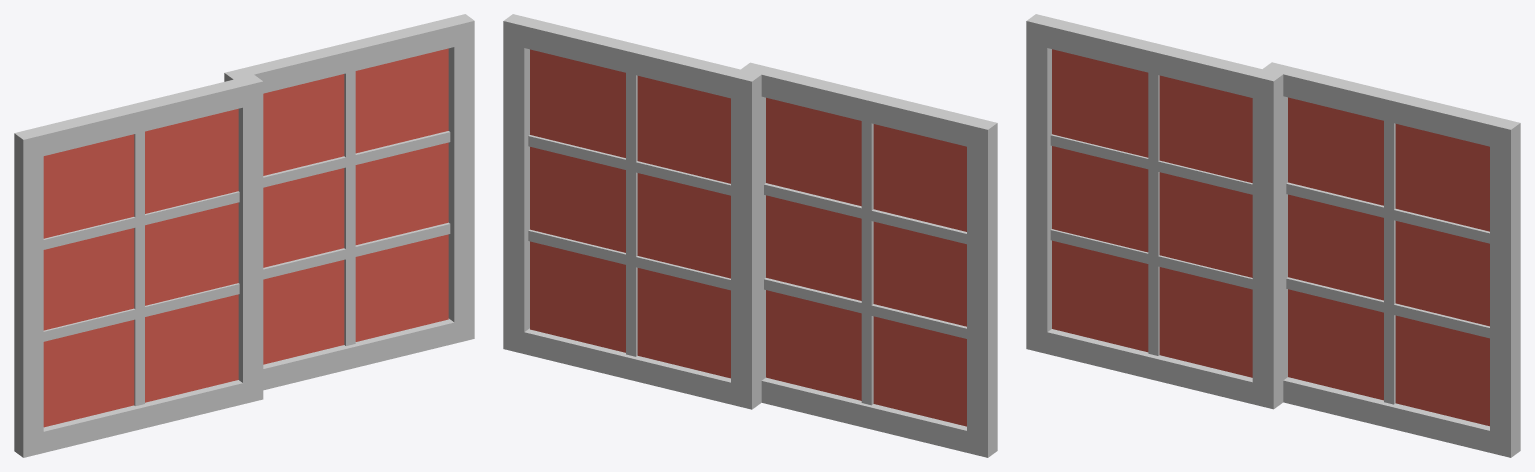
File: Mesh_WindowBig_03.fbx
The picture shows the model from 3 angles, left to right: view 1: azimuth 30°, elevation 25°; view 2: azimuth 150°, elevation 25°; view 3: azimuth 330°, elevation 25°; orthographic projection. The views are drawn at different scales.
Visible parts, largest first — view 1: Mesh_WindowBig_03; view 2: Mesh_WindowBig_03; view 3: Mesh_WindowBig_03.
Part boxes in pixels (box(x1,y1,x2,y2)): Mesh_WindowBig_03: box(14, 14, 474, 457); Mesh_WindowBig_03: box(503, 14, 997, 457); Mesh_WindowBig_03: box(1026, 14, 1520, 457).
Bounding box in the file's own units: 1.28 × 0.8476 × 0.0894.
